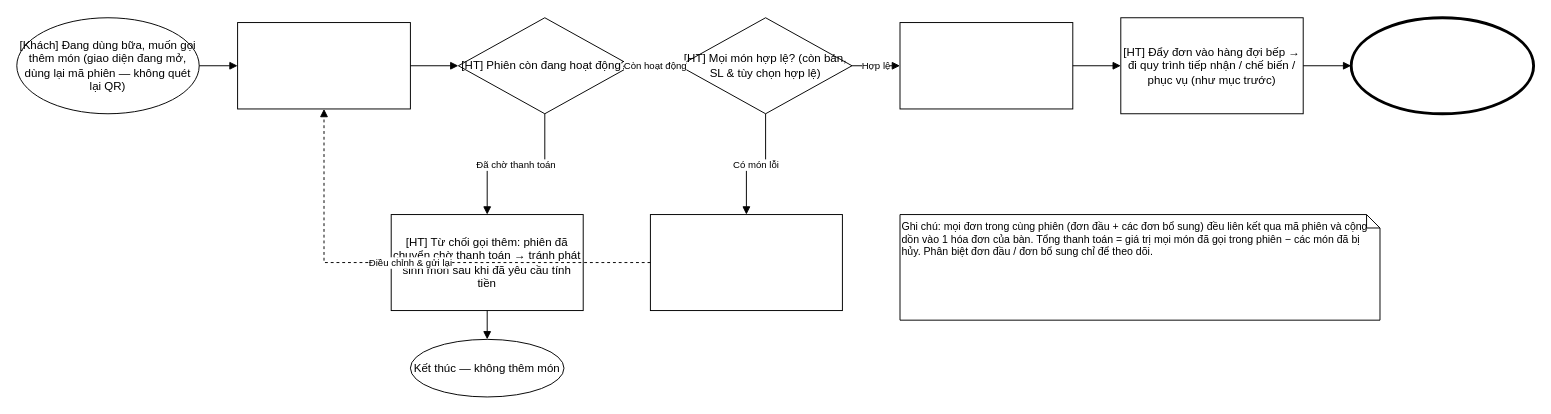
Image size: 1551x414. Some labels were removed from this diagram. The centre of each missing label's shape, as x and y in pixels:
[HT] Trả danh sách lỗi theo từng món (không hủy cả giỏ) — khách sửa rồi gửi lại: pixel 745 262
[HT] Tạo đơn mới gắn vào phiên hiện tại, đánh dấu là ĐƠN BỔ SUNG: pixel 986 65
[Khách] Chọn thêm món → xác nhận gửi (kèm mã phiên): pixel 323 65
Đơn bổ sung được ghi nhận và cộng dồn vào hóa đơn duy nhất của bàn: pixel 1442 65
